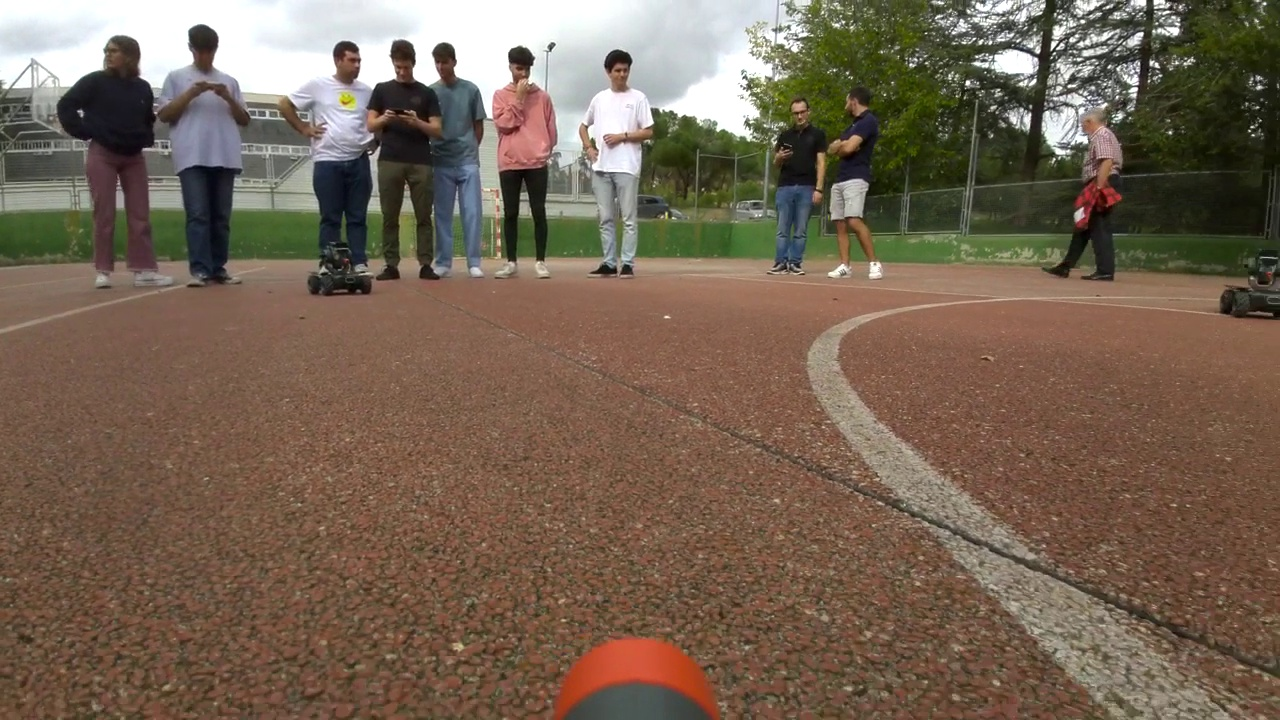robot: (1219, 248, 1280, 318), (307, 242, 372, 296)
